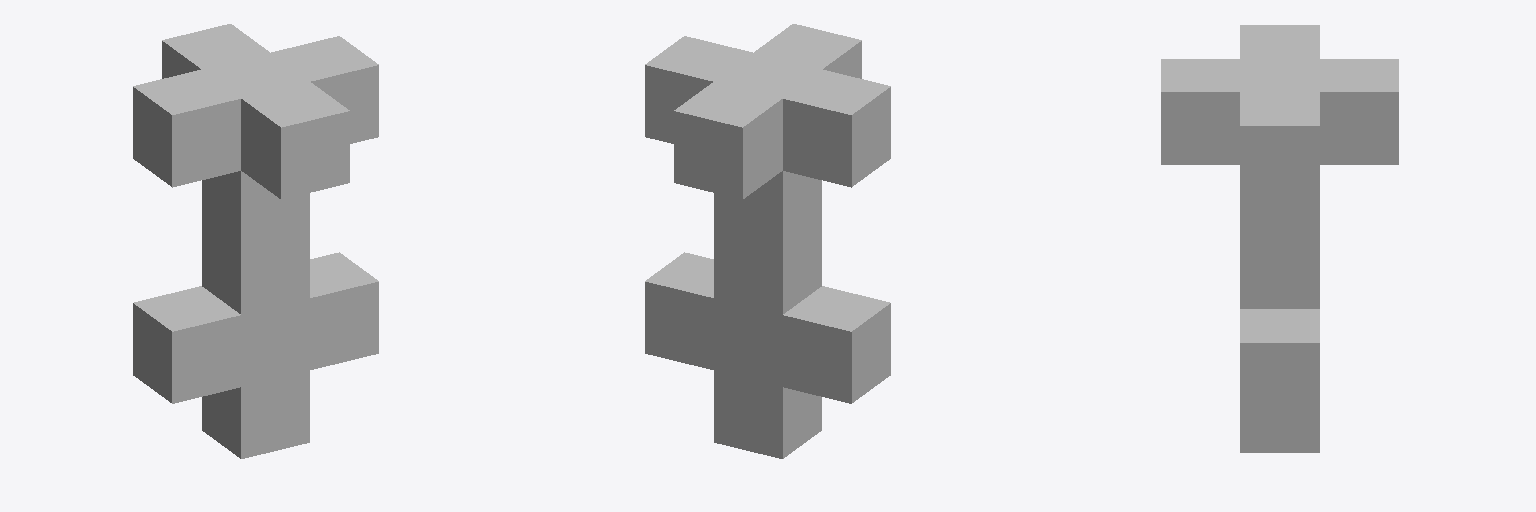
The model's file is (5) Tulip Flowers (Stage 4).obj.
3 renders of one model, left to right at view 1: azimuth 30°, elevation 25°; view 2: azimuth 150°, elevation 25°; view 3: azimuth 270°, elevation 25°, orthographic.
Parts seen in each view (by area): view 1: object 1; view 2: object 1; view 3: object 1.
Part boxes in pixels (bbox=[...]): object 1: bbox=[133, 24, 378, 458]; object 1: bbox=[645, 24, 890, 458]; object 1: bbox=[1161, 25, 1398, 452].
Bounding box in the file's own units: 0.3 × 0.5 × 0.3.